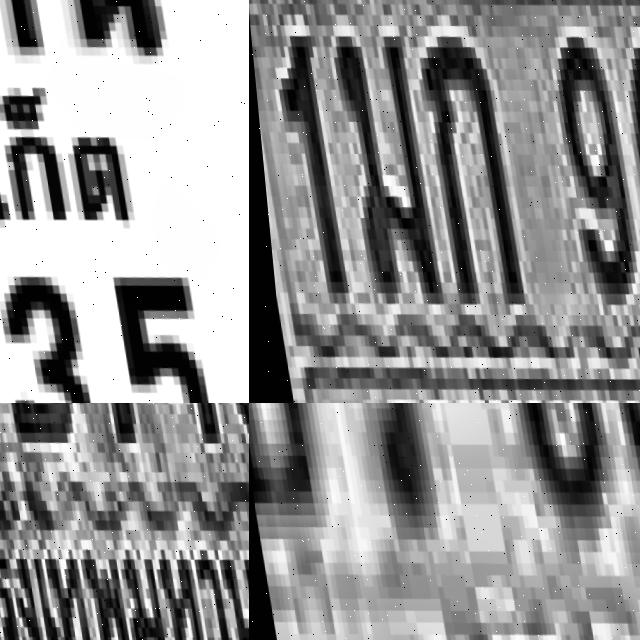license-plate: (249, 0, 640, 403), (0, 0, 249, 403), (249, 403, 640, 640), (0, 403, 249, 640)
